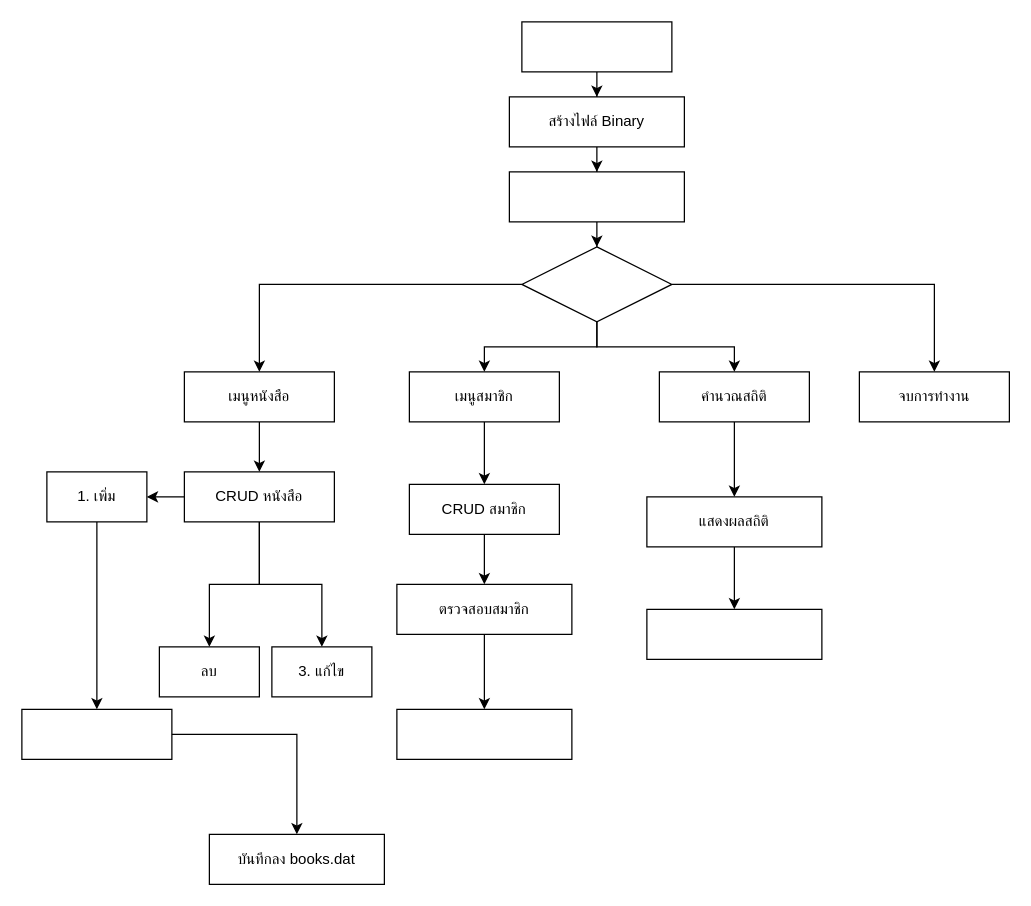
Some shapes in this 1031 by 906 pixel diagram are drawn without their labels. Here are the shapes that lost their labels. From the top down, the centre of each, then its label:
the point at 596,46: เริ่มต้นระบบ
the point at 596,196: แสดงเมนูหลัก
the point at 596,284: เลือกเมนู
the point at 734,633: เขียนไฟล์ TXT
the point at 96,733: Pack struct
the point at 484,733: บันทึกการยืม
